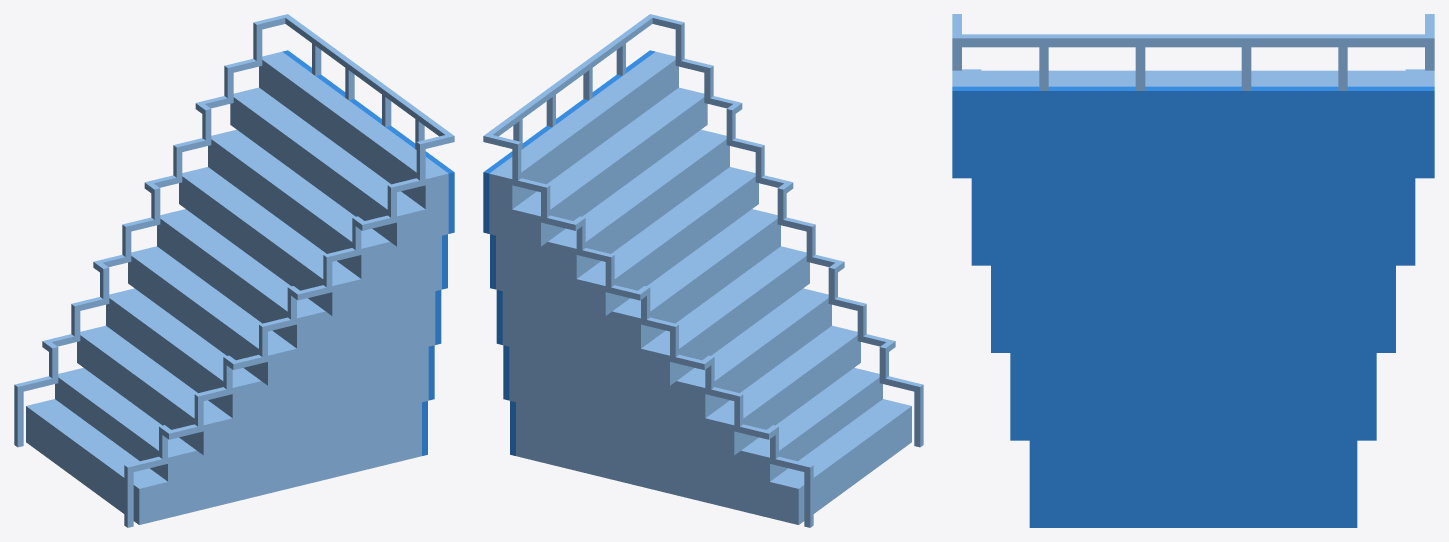
Rendered from Stadium1.fbx.
3 views of the same model, side by side, from view 1: azimuth 30°, elevation 25°; view 2: azimuth 150°, elevation 25°; view 3: azimuth 270°, elevation 25° (orthographic). The views are drawn at different scales.
Visible parts, largest first — view 1: StadiumSeating1:Mesh; view 2: StadiumSeating1:Mesh; view 3: StadiumSeating1:Mesh.
Boxes of the visible parts, x1,y1,x2,y2 form: StadiumSeating1:Mesh: [14, 14, 454, 527]; StadiumSeating1:Mesh: [483, 14, 923, 527]; StadiumSeating1:Mesh: [952, 14, 1434, 527].
Size of the model in its own units: 52 by 56 by 50.
1 material, 1 textured.
